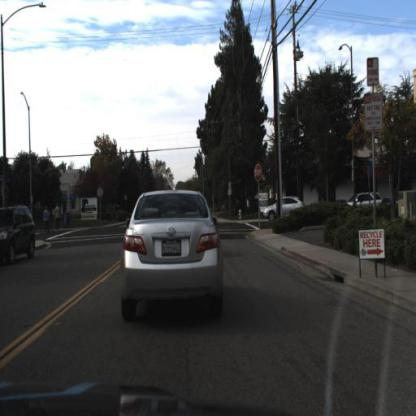car: (123, 187, 221, 323), (1, 203, 39, 269), (1, 203, 36, 266), (263, 193, 304, 223), (343, 189, 385, 214)
pedestrian: (43, 202, 52, 237), (54, 203, 63, 234), (55, 202, 63, 233)
